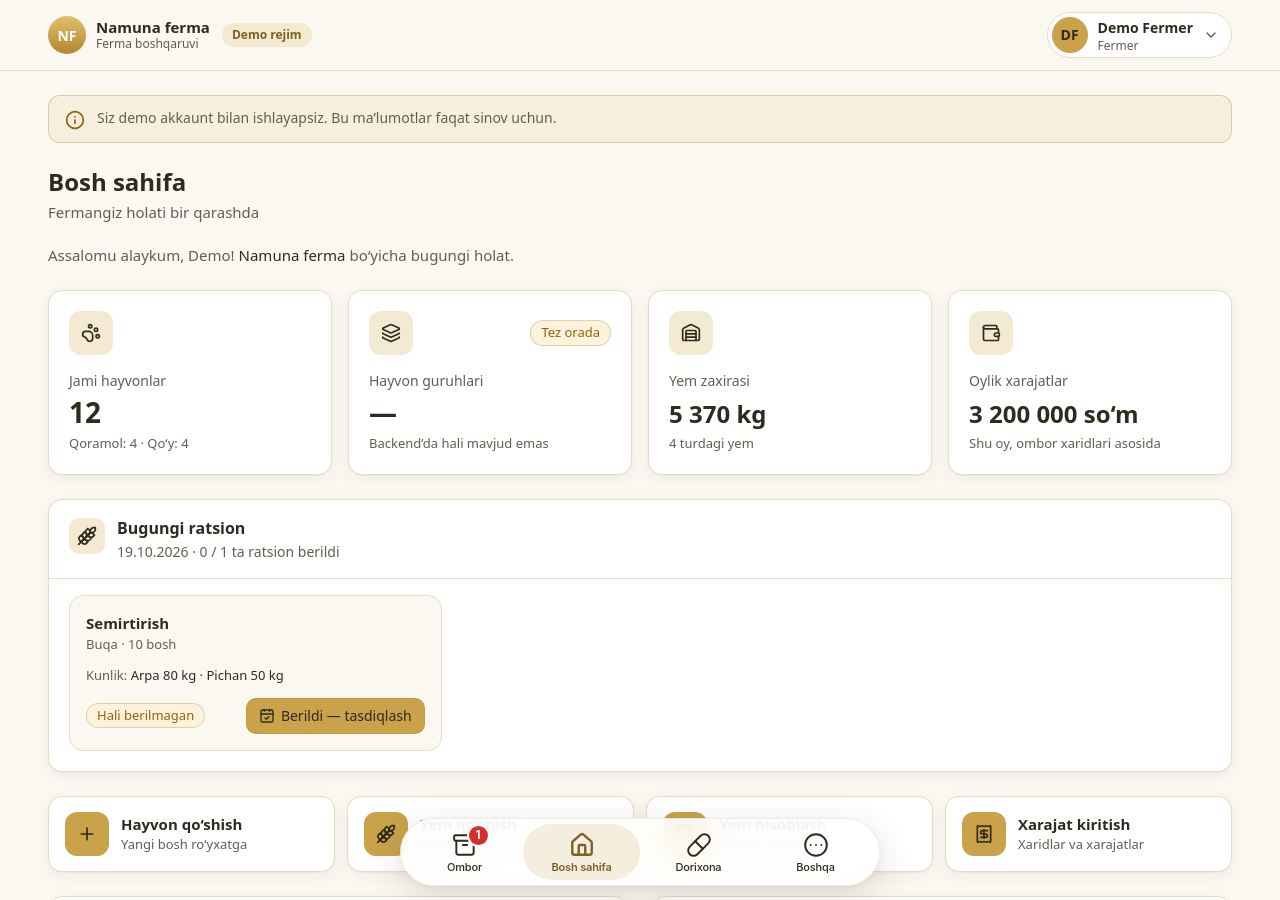
Scenario: dashboard — today’s ration › shows whether today’s ration was given and confirms it from its slide
Expected: the text "Hali berilmagan" is shown, [86,703,205,728]
Expected: the text "19.10.2026 · 0 / 1 ta ratsion berildi" is shown, [117,542,340,562]
Click the button "Berildi — tasdiqlash" at coordinates (335, 716), box [246,698,425,734]
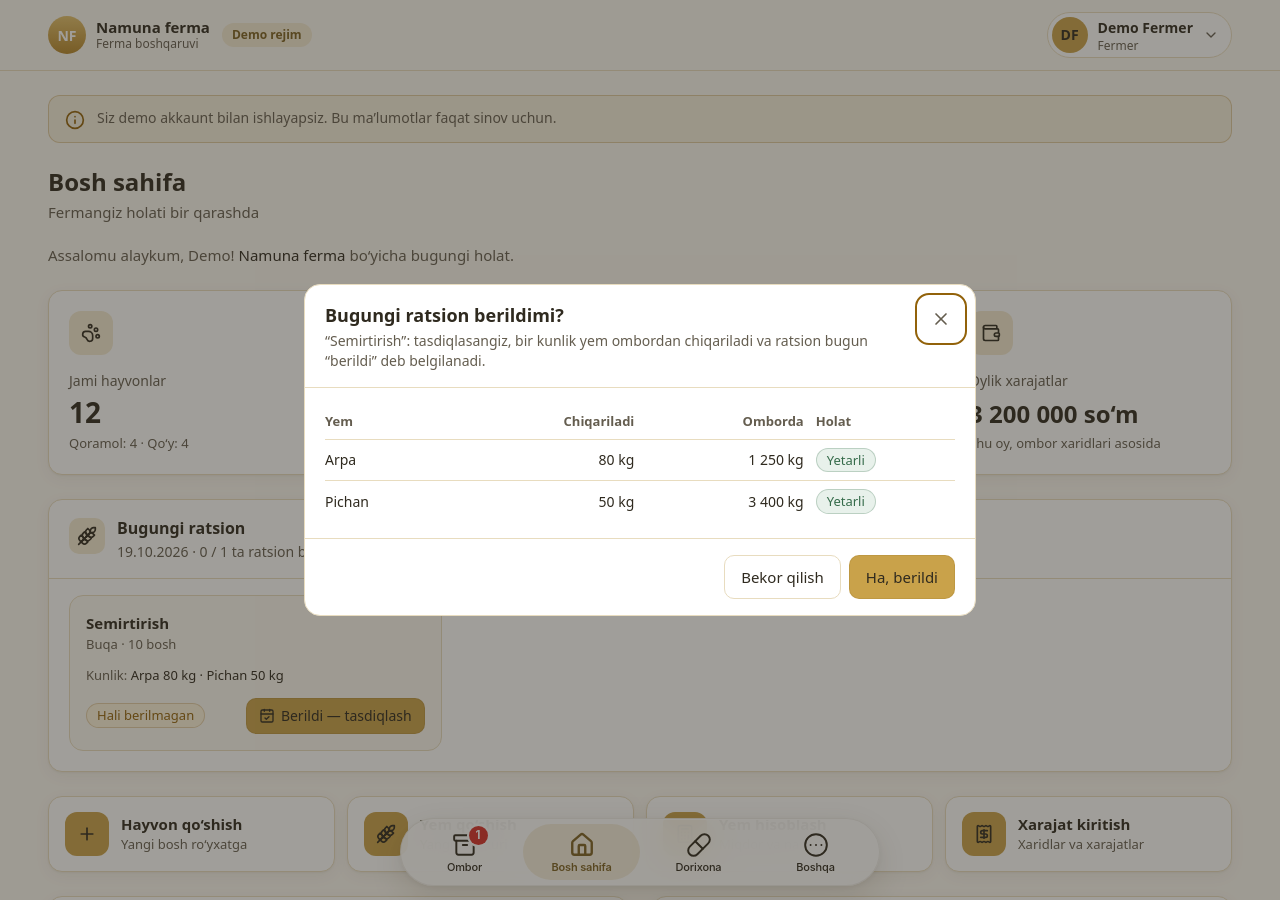
Click the button "Ha, berildi" at coordinates (902, 577), box [849,555,955,599]
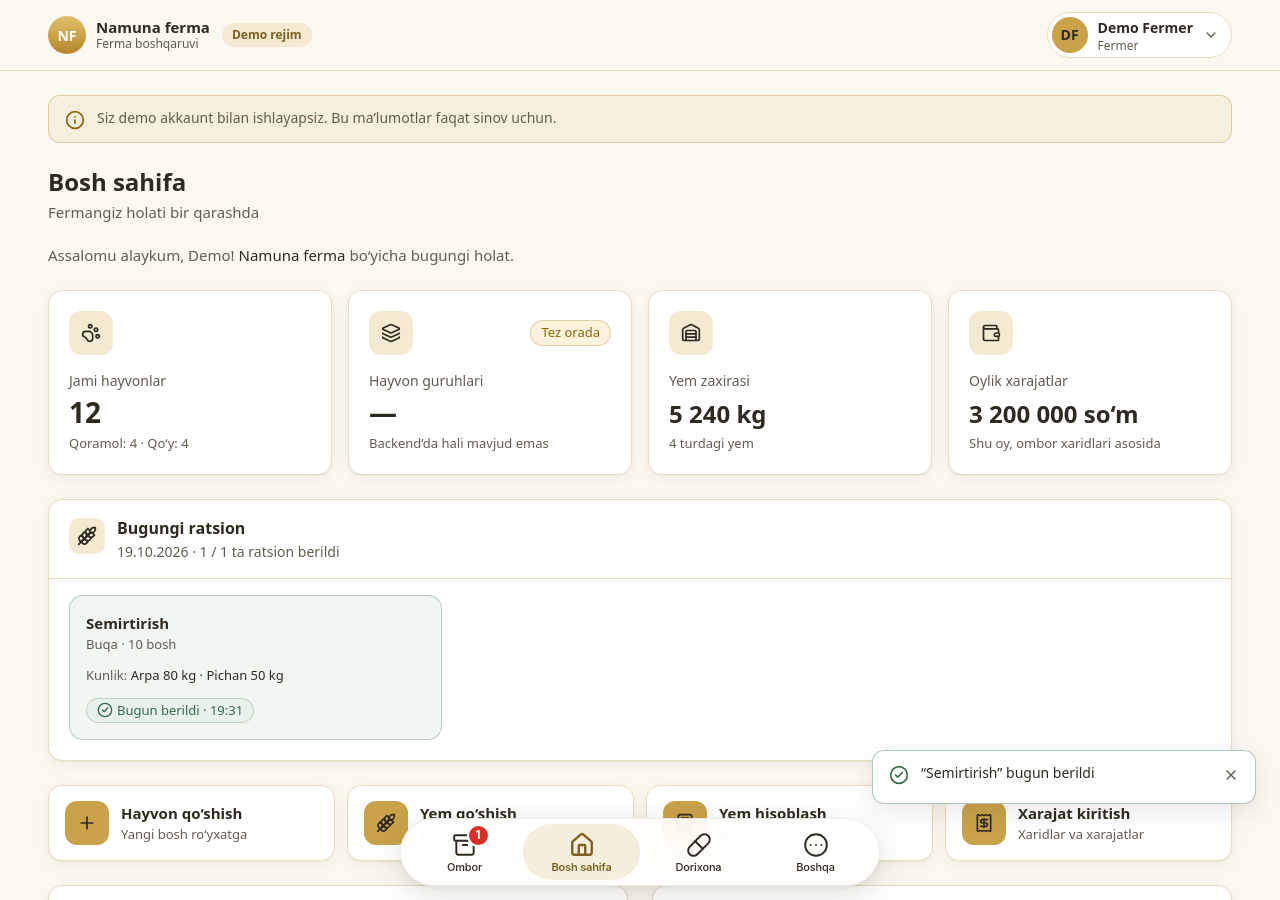
Expected: the dialog is gone
Expected: the text "Bugun berildi · 19:31" is shown, [86,698,254,723]
Expected: the text "19.10.2026 · 1 / 1 ta ratsion berildi" is shown, [117,542,340,562]
